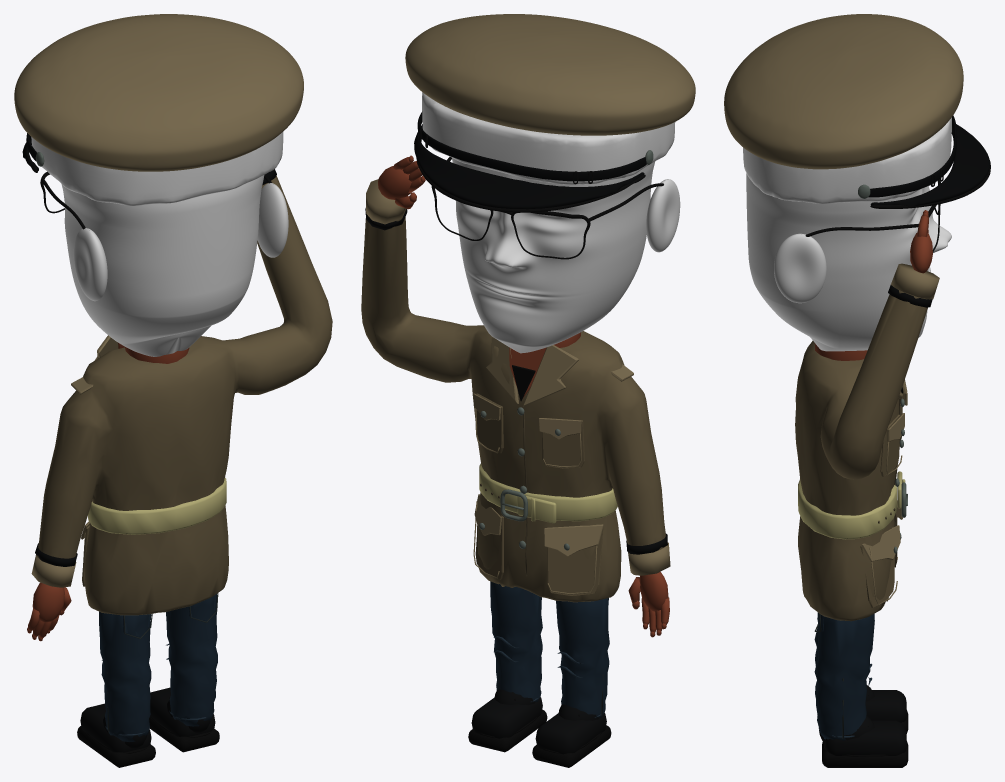
The model's file is meyer.obj.
3 views of the same model, side by side, from view 1: azimuth 30°, elevation 25°; view 2: azimuth 150°, elevation 25°; view 3: azimuth 270°, elevation 25° (orthographic).
Parts seen in each view (by area): view 1: Guerrera_|_cuerpo_y_mangas_continuos, Gorra_|_corona_beige, Rostro_Meyer_|_anatomia_ajustada_a_referencia, Gorra_|_banda_alta, Jeans_pierna_1, Jeans_pierna_-1, Cinturon_|_correa_completa, Oreja_anatomica_1, Oreja_anatomica_-1, Zapato_cuerpo_1, Zapato_cuerpo_-1, Suela_zapato_1 (+3 smaller); view 2: Guerrera_|_cuerpo_y_mangas_continuos, Gorra_|_corona_beige, Rostro_Meyer_|_anatomia_ajustada_a_referencia, Gorra_|_banda_alta, Gorra_|_visera_de_cuero, Jeans_pierna_1, Jeans_pierna_-1, Cinturon_|_correa_completa, Gorra_|_correa_frontal, Bolsillo_1_2.0, Zapato_cuerpo_-1, Oreja_anatomica_1 (+18 smaller); view 3: Gorra_|_corona_beige, Guerrera_|_cuerpo_y_mangas_continuos, Rostro_Meyer_|_anatomia_ajustada_a_referencia, Gorra_|_banda_alta, Jeans_pierna_-1, Oreja_anatomica_-1, Gorra_|_visera_de_cuero, Cinturon_|_correa_completa, Zapato_cuerpo_-1, Puno_vuelto_-1, Zapato_cuerpo_1, Suela_zapato_-1 (+7 smaller).
Boxes of the visible parts, x1,y1,x2,y2 form: Guerrera_|_cuerpo_y_mangas_continuos: [37, 170, 332, 615]; Gorra_|_corona_beige: [14, 14, 303, 171]; Rostro_Meyer_|_anatomia_ajustada_a_referencia: [61, 175, 264, 356]; Gorra_|_banda_alta: [31, 132, 283, 205]; Jeans_pierna_1: [99, 611, 151, 741]; Jeans_pierna_-1: [166, 594, 217, 726]; Cinturon_|_correa_completa: [88, 477, 226, 534]; Oreja_anatomica_1: [73, 228, 107, 301]; Oreja_anatomica_-1: [257, 183, 288, 257]; Zapato_cuerpo_1: [80, 703, 151, 752]; Zapato_cuerpo_-1: [150, 687, 215, 736]; Suela_zapato_1: [77, 726, 155, 767]; Guerrera_|_cuerpo_y_mangas_continuos: [361, 217, 665, 602]; Gorra_|_corona_beige: [405, 14, 695, 135]; Rostro_Meyer_|_anatomia_ajustada_a_referencia: [452, 158, 655, 353]; Gorra_|_banda_alta: [422, 92, 675, 184]; Gorra_|_visera_de_cuero: [414, 124, 644, 209]; Jeans_pierna_1: [556, 598, 609, 717]; Jeans_pierna_-1: [490, 581, 542, 701]; Cinturon_|_correa_completa: [479, 463, 617, 521]; Gorra_|_correa_frontal: [417, 111, 646, 181]; Bolsillo_1_2.0: [547, 527, 603, 595]; Zapato_cuerpo_-1: [471, 697, 542, 738]; Oreja_anatomica_1: [646, 179, 680, 252]; Gorra_|_corona_beige: [724, 14, 963, 169]; Guerrera_|_cuerpo_y_mangas_continuos: [795, 289, 927, 621]; Rostro_Meyer_|_anatomia_ajustada_a_referencia: [746, 173, 951, 351]; Gorra_|_banda_alta: [743, 117, 951, 203]; Jeans_pierna_-1: [814, 612, 874, 740]; Oreja_anatomica_-1: [774, 233, 826, 303]; Gorra_|_visera_de_cuero: [870, 124, 989, 206]; Cinturon_|_correa_completa: [798, 479, 896, 539]; Zapato_cuerpo_-1: [825, 720, 906, 755]; Puno_vuelto_-1: [891, 263, 939, 299]; Zapato_cuerpo_1: [865, 690, 906, 722]; Suela_zapato_-1: [822, 741, 908, 767].
Bounding box in the file's own units: 3.22 × 6.97 × 2.43.
